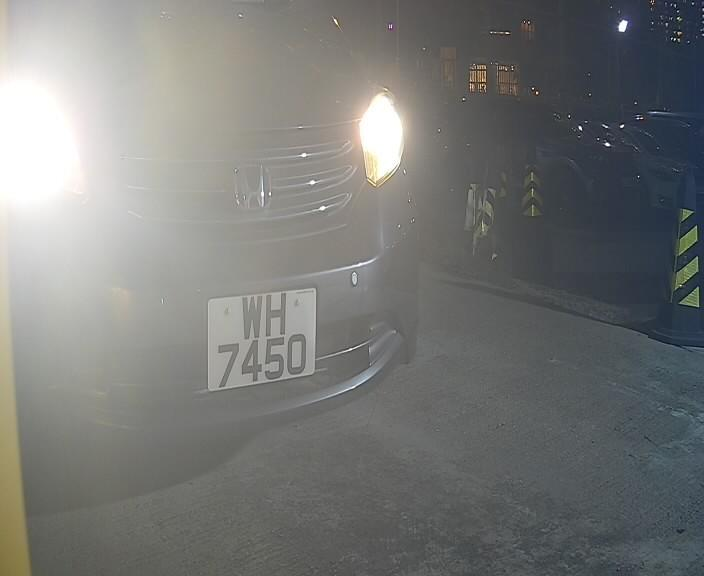License Plate: (199, 273, 321, 399)
